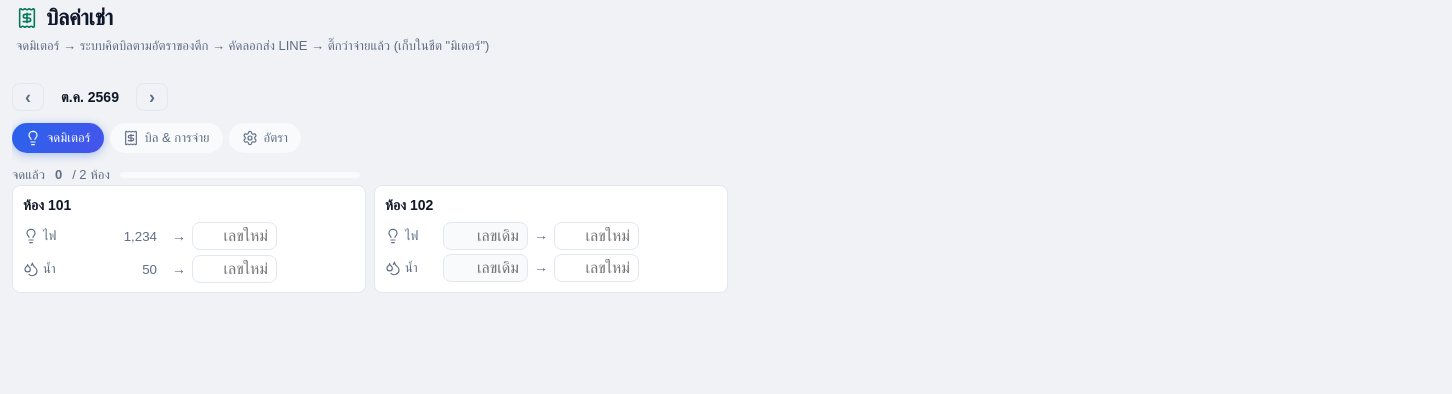
it: <BillingView> จดมิเตอร์ › a manager sees the bill preview while typing
Type "1290" into the field named "ห้อง 101 มิเตอร์ไฟใหม่" at coordinates (234, 236), box [192,222,277,250]
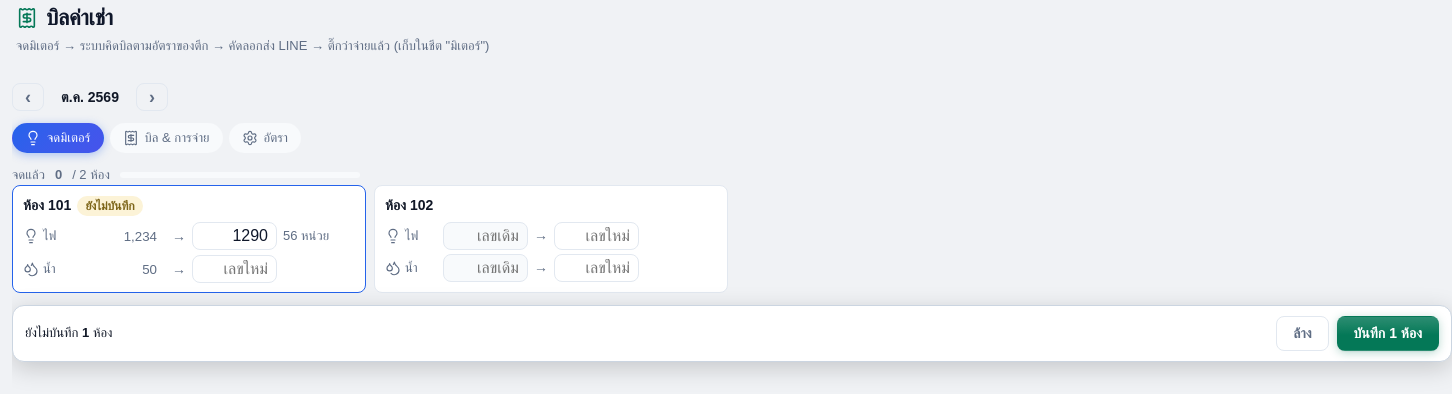
Type "56" into the field named "ห้อง 101 มิเตอร์น้ำใหม่" at coordinates (234, 269), box [192,255,277,283]
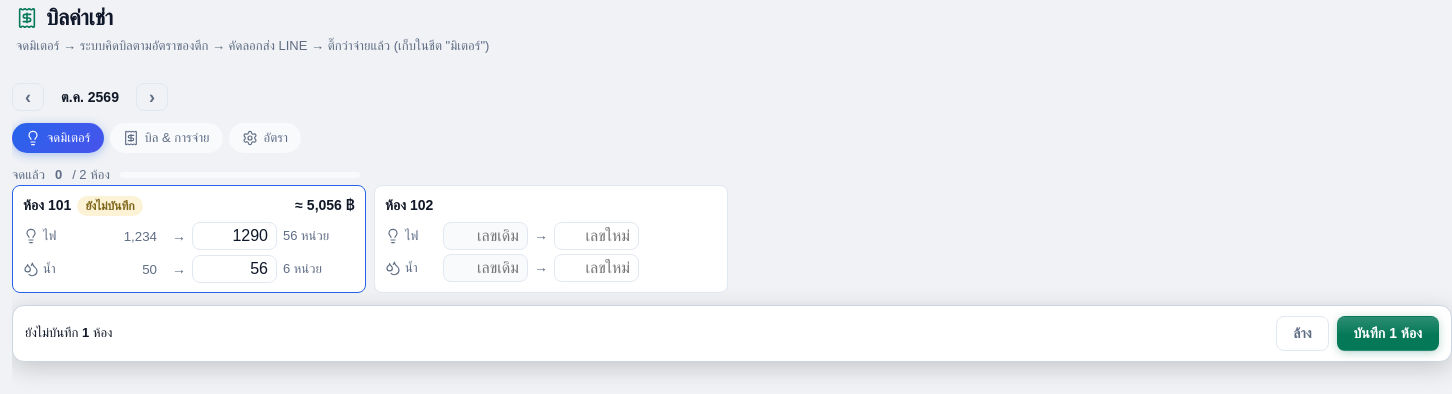
Now the text "≈ 5,056 ฿" is shown, box [295,195,355,216]
